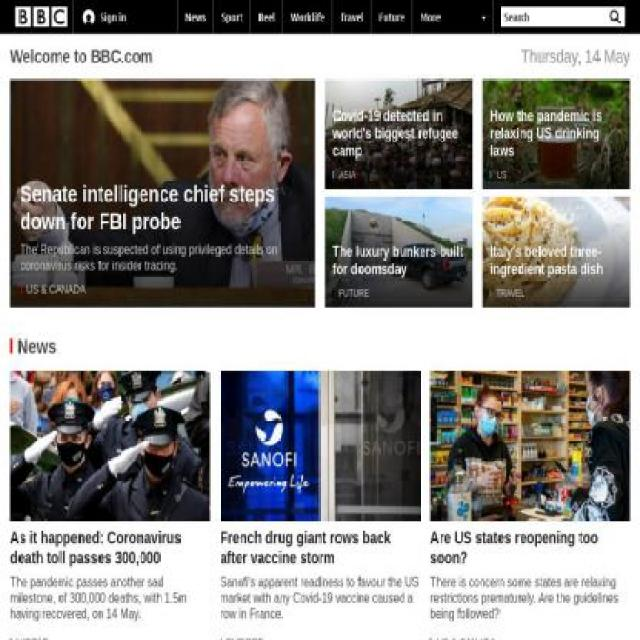button: (20, 283, 305, 295), (73, 1, 178, 33), (412, 1, 494, 33), (283, 1, 332, 33), (332, 170, 465, 181), (490, 170, 622, 181), (332, 288, 465, 298), (490, 288, 622, 298), (371, 1, 412, 33), (332, 1, 371, 33), (214, 1, 251, 33), (178, 1, 213, 33), (15, 7, 68, 27), (251, 1, 283, 33), (24, 13, 41, 50), (606, 5, 626, 27), (9, 637, 211, 638), (219, 637, 421, 638), (429, 637, 631, 638)
field: (500, 5, 605, 27)
